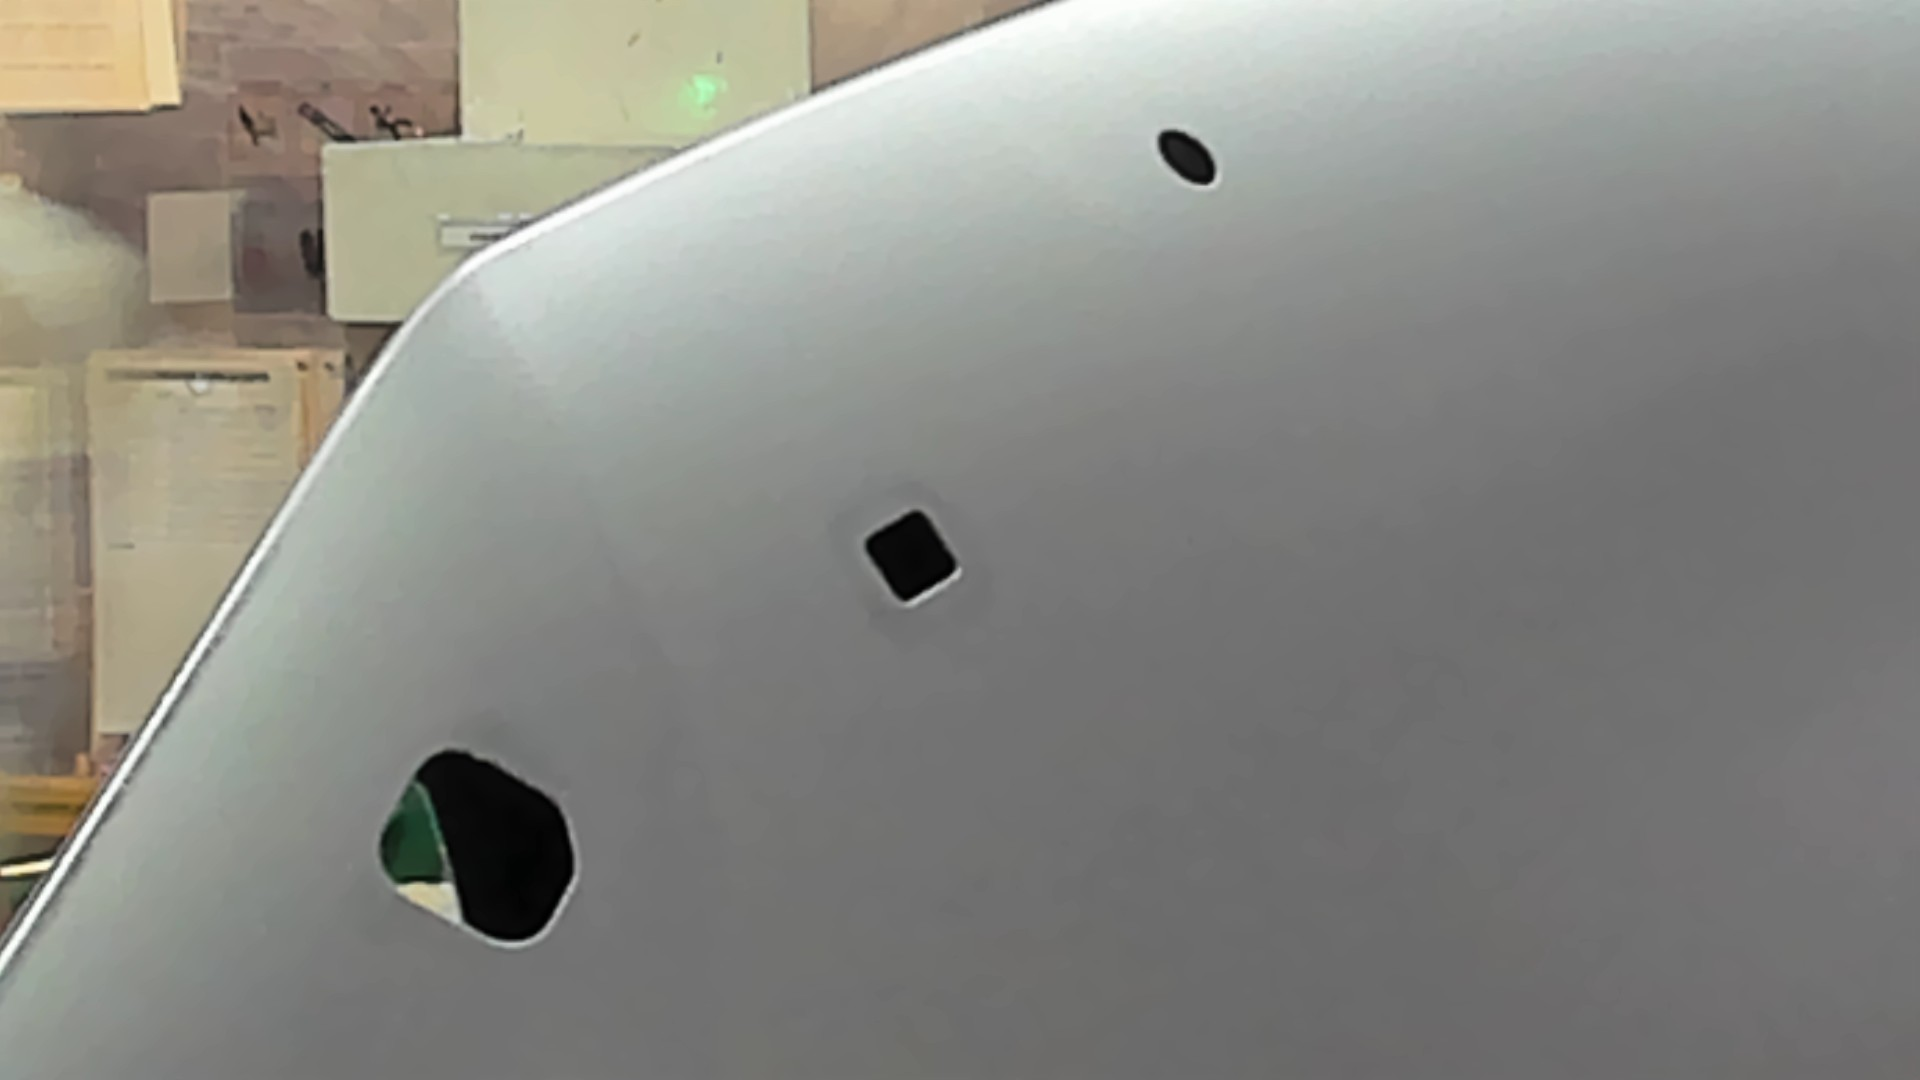chico: (1135, 113, 1240, 208)
grande: (348, 728, 603, 959)
mediano: (841, 485, 986, 613)
